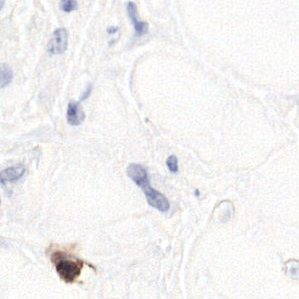Lymphocyte: (50, 248, 86, 282)
